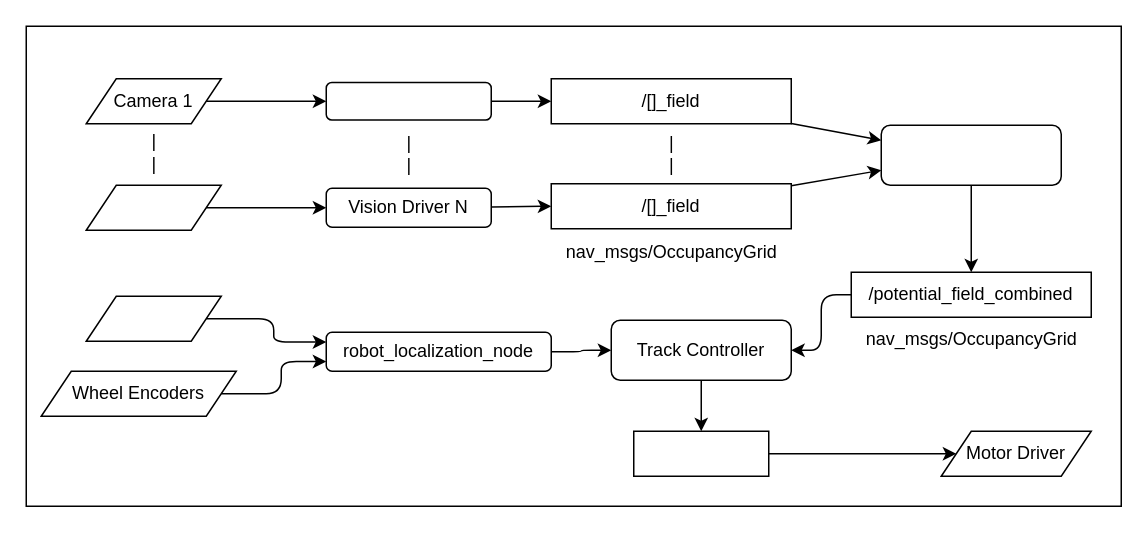
Image size: 1148x533. Some labels were removed from this diagram. The centre of each missing label's shape, as x and y in pixels:
/cmd_vel: (x=700, y=453)
Camera N: (x=153, y=207)
IMU: (x=153, y=318)
Occupancy Grid Aggregator: (x=970, y=154)
Vision Driver 1: (x=408, y=100)
